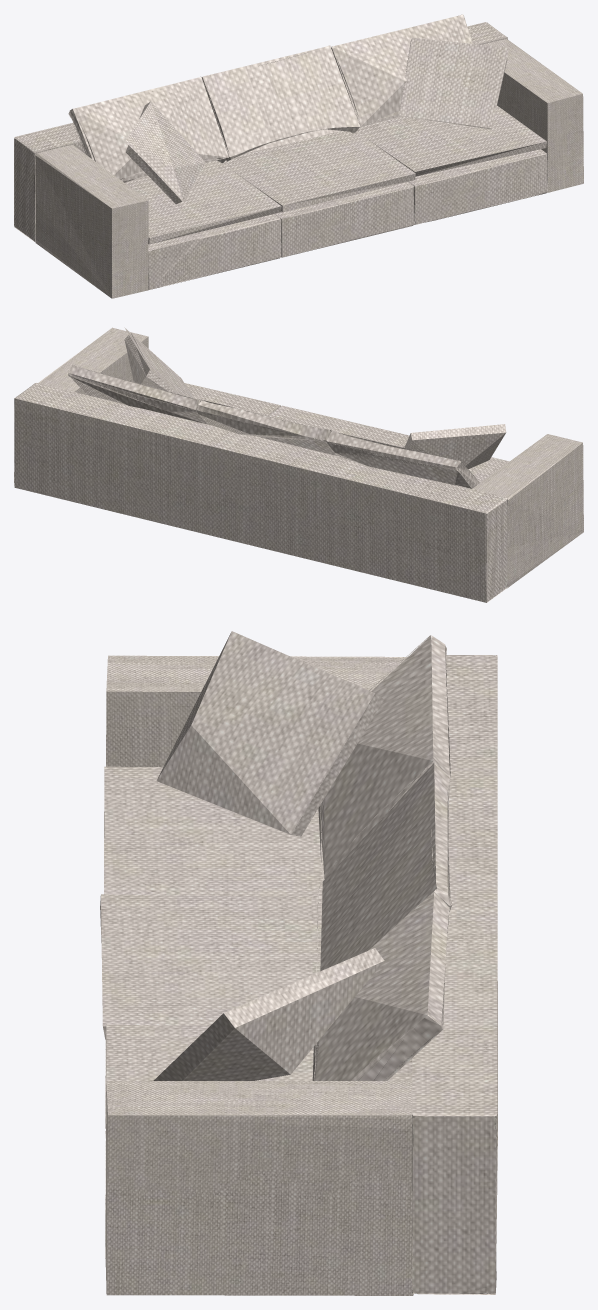
Rendered from cloud-sofa.glb.
The picture shows the model from 3 angles, top to bottom: view 1: azimuth 30°, elevation 25°; view 2: azimuth 150°, elevation 25°; view 3: azimuth 270°, elevation 25°; orthographic projection. The views are drawn at different scales.
Parts seen in each view (by area): view 1: product; view 2: product; view 3: product.
Boxes of the visible parts, x1,y1,x2,y2 form: product: (14,14,583,298); product: (14,327,583,602); product: (100,631,497,1295).
Bounding box in the file's own units: 1 × 0.2522 × 0.3642.
Materials: 1 (1 with a texture image).
